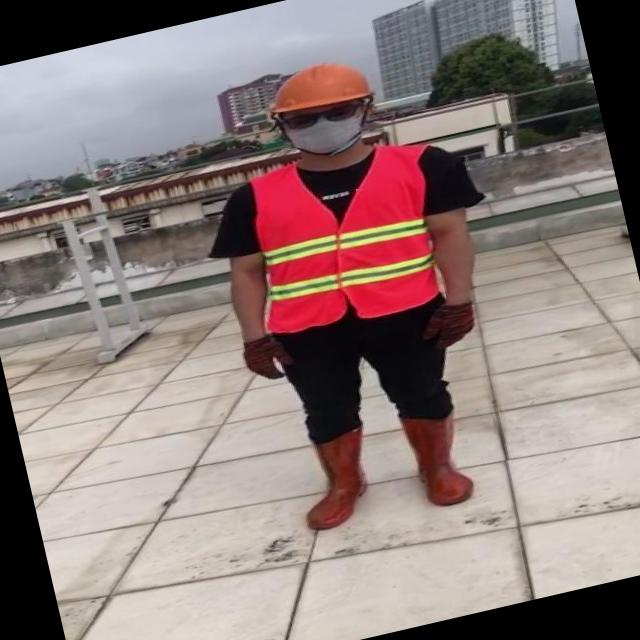boots: (286, 423, 392, 532), (399, 408, 474, 508)
gloves: (386, 262, 516, 388), (196, 304, 320, 408)
helmet: (259, 48, 382, 123)
vest: (234, 136, 462, 338)
